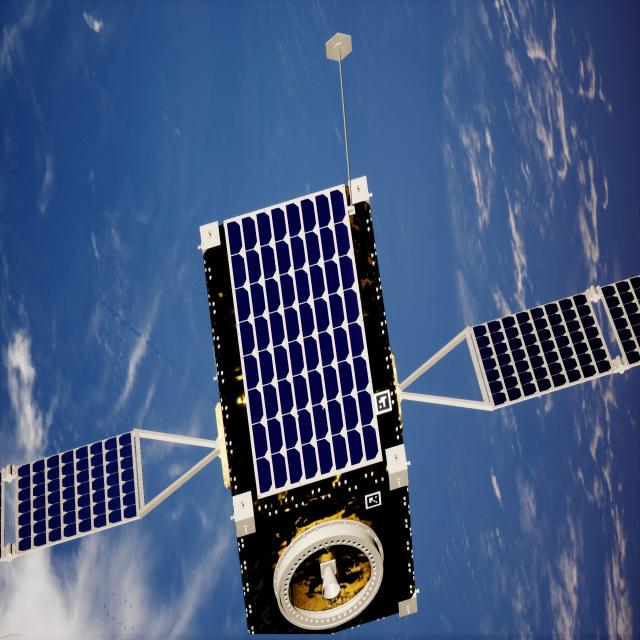medium_debris: (0, 177, 640, 636)
